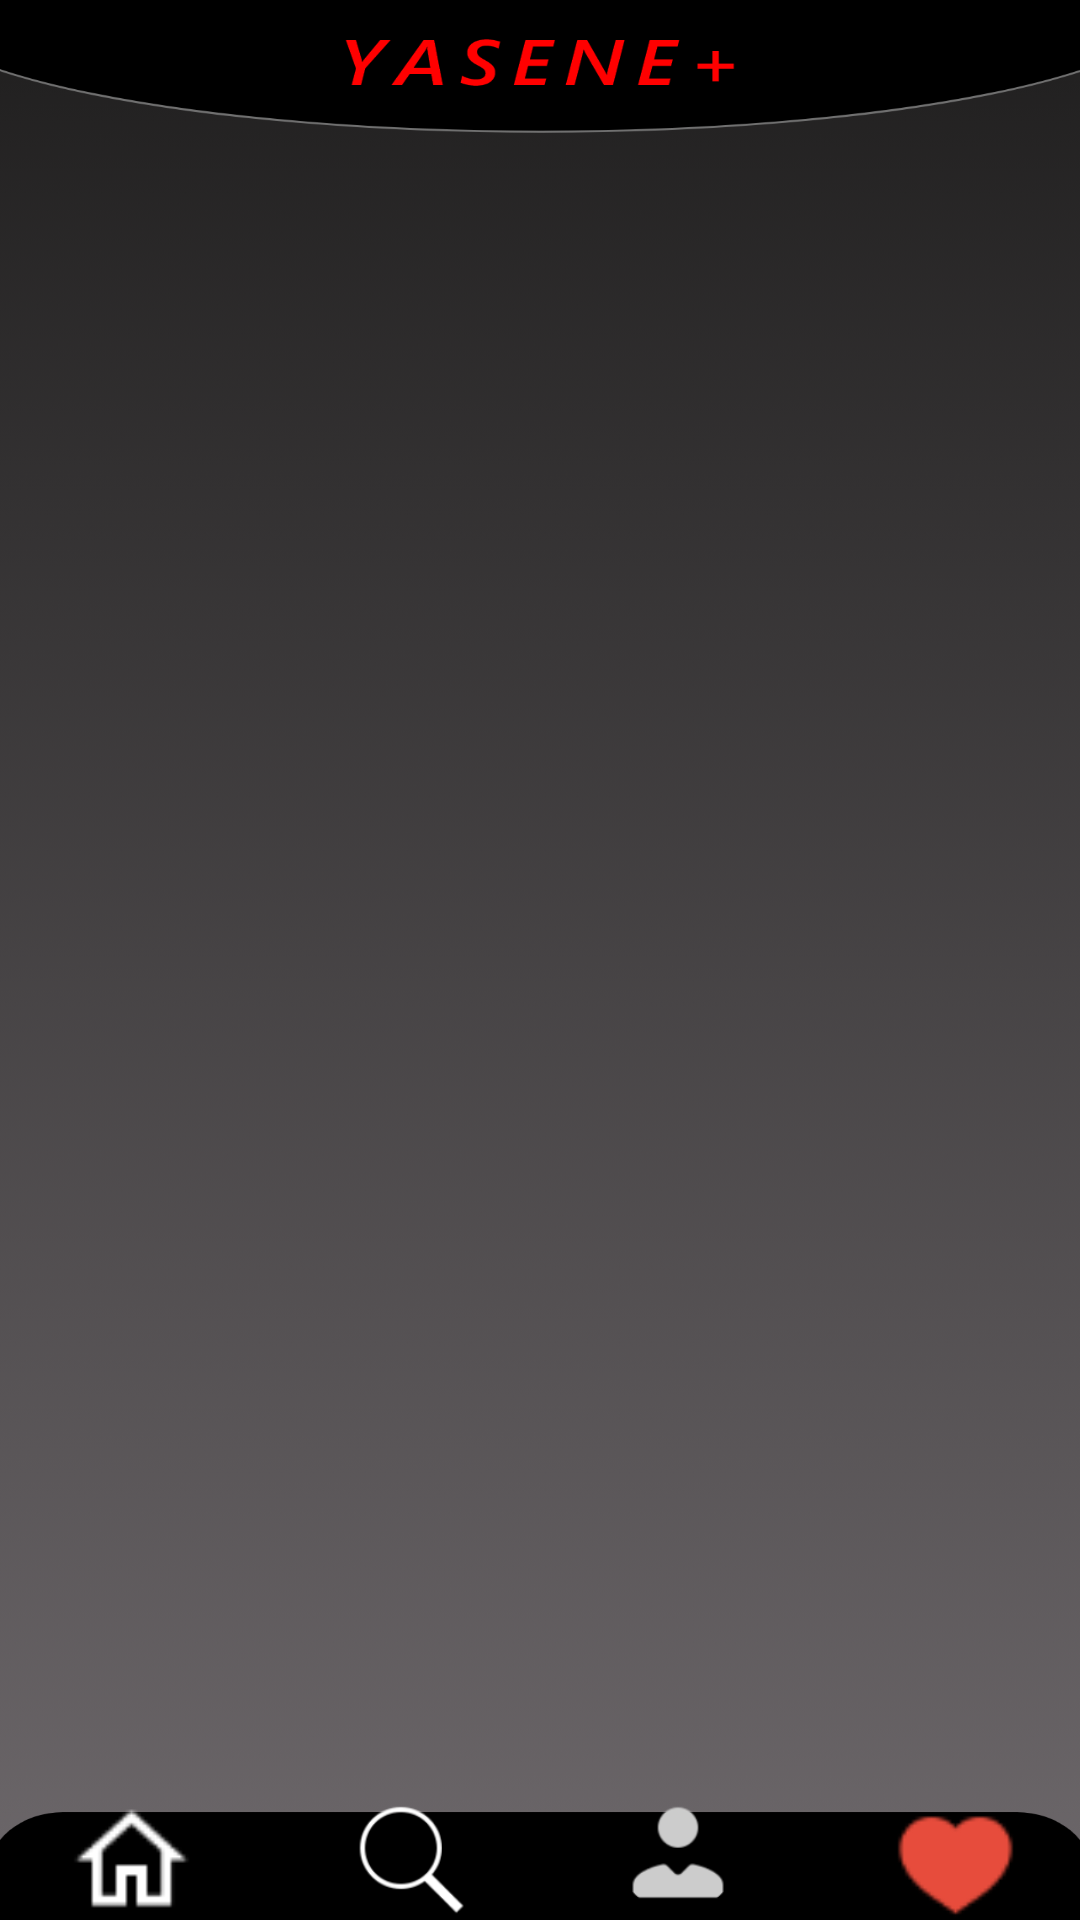

Icons on this 1080w x 1920h Android screen, each with the point to tap as [x,y]:
account: [678,1852]
heart: [955,1860]
home: [131,1860]
search: [410,1860]
